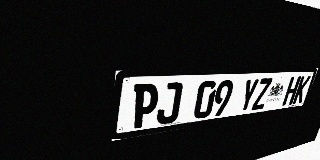0: (192, 80, 218, 120)
9: (211, 80, 235, 117)
H: (282, 76, 301, 106)
J: (156, 82, 183, 125)
K: (292, 76, 311, 104)
P: (131, 83, 160, 129)
Y: (237, 78, 260, 113)
Z: (251, 78, 273, 111)
